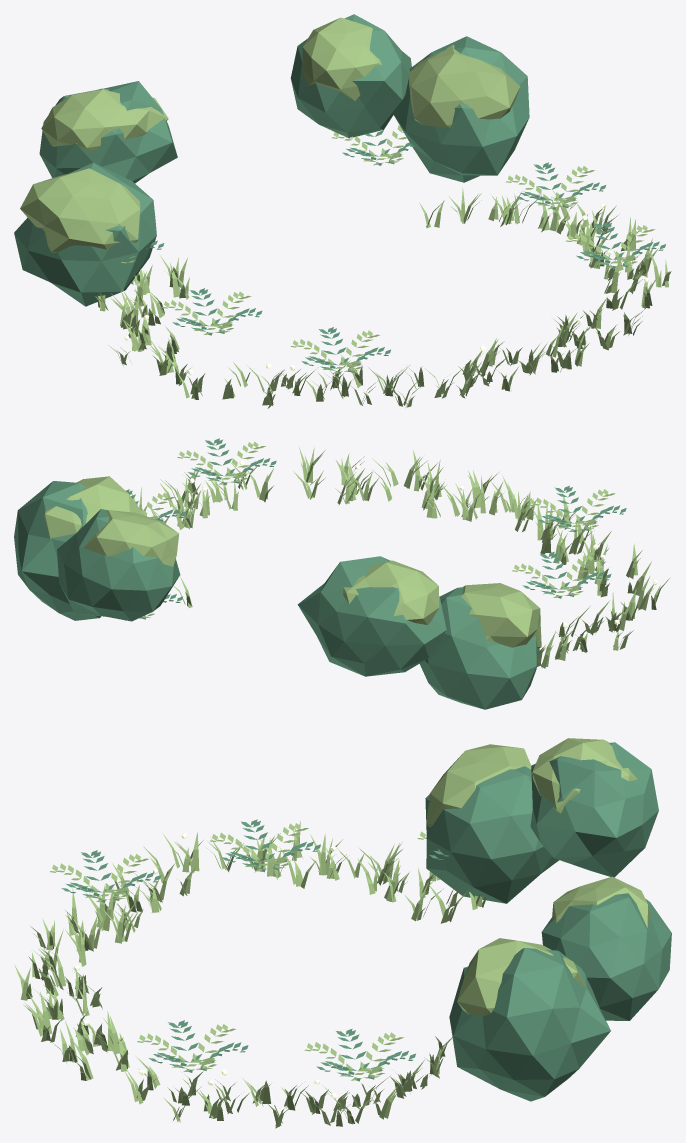
The model's file is SM_WF_Foliage.fbx.
3 views of the same model, one above another, from view 1: azimuth 30°, elevation 25°; view 2: azimuth 150°, elevation 25°; view 3: azimuth 270°, elevation 25° (orthographic). The views are drawn at different scales.
Visible parts, largest first — view 1: SM_WF_Foliage; view 2: SM_WF_Foliage; view 3: SM_WF_Foliage.
Part boxes in pixels (x1,y1,x2,y2): SM_WF_Foliage: (14, 14, 671, 408); SM_WF_Foliage: (14, 438, 670, 709); SM_WF_Foliage: (14, 738, 671, 1128).
Bounding box in the file's own units: 605 × 589 × 175.
